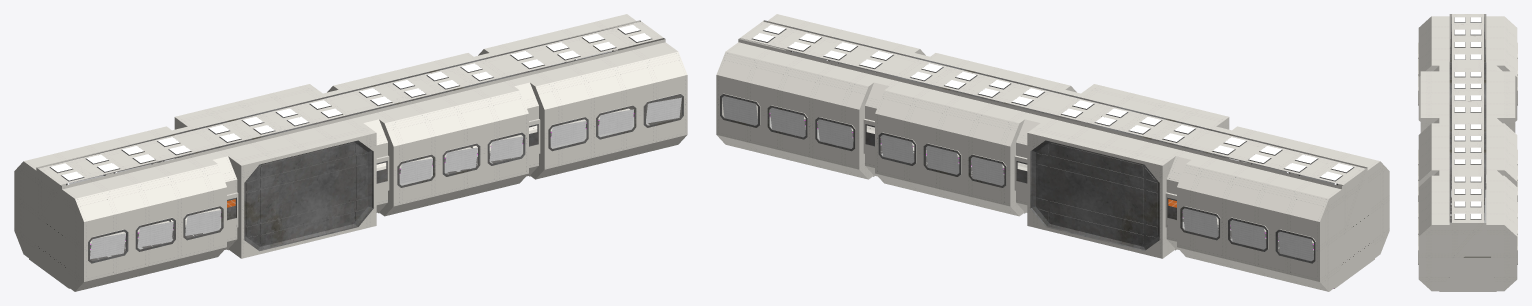
Rendered from sci-fi_train-optimized.glb.
The picture shows the model from 3 angles, left to right: view 1: azimuth 30°, elevation 25°; view 2: azimuth 150°, elevation 25°; view 3: azimuth 270°, elevation 25°; orthographic projection. The views are drawn at different scales.
Visible parts, largest first — view 1: Cube_0; view 2: Cube_0; view 3: Cube_0.
Boxes of the visible parts, <box> form: Cube_0: <box>14,14,687,291</box>; Cube_0: <box>716,14,1389,291</box>; Cube_0: <box>1418,14,1517,291</box>.
Bounding box in the file's own units: 19 × 2.95 × 3.84.
7 materials, 5 textured.
